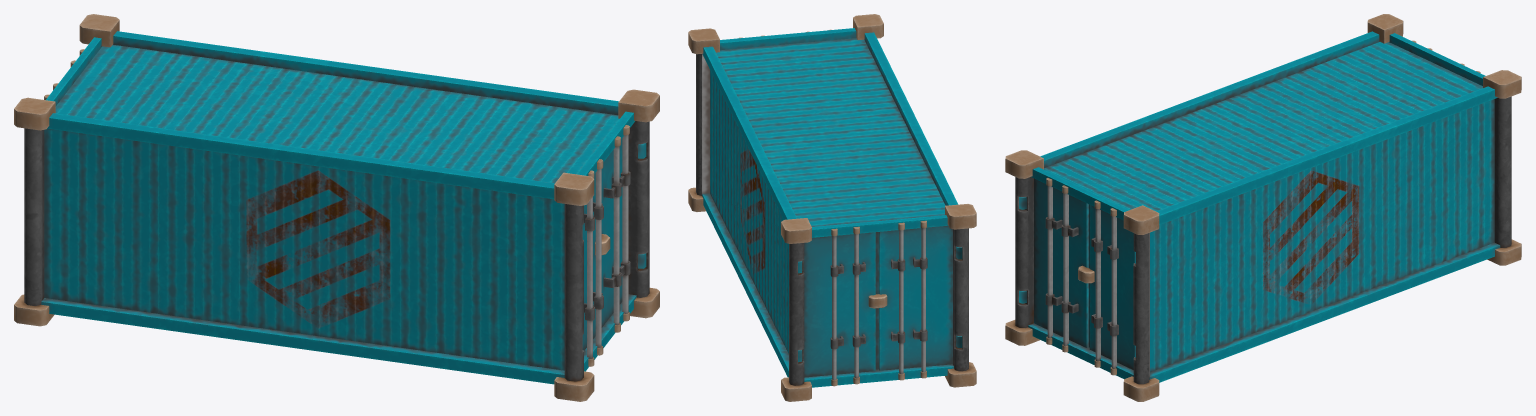
The model's file is Container.fbx.
3 renders of one model, left to right at view 1: azimuth 30°, elevation 25°; view 2: azimuth 150°, elevation 25°; view 3: azimuth 270°, elevation 25°, orthographic. The views are drawn at different scales.
Visible parts, largest first — view 1: Cube.006; view 2: Cube.006; view 3: Cube.006.
Part boxes in pixels (x1=…): Cube.006: x1=14, y1=14, x2=659, y2=401; Cube.006: x1=688, y1=14, x2=976, y2=401; Cube.006: x1=1005, y1=14, x2=1521, y2=401.
Size of the model in its own units: 5.33 by 2.16 by 5.6.
